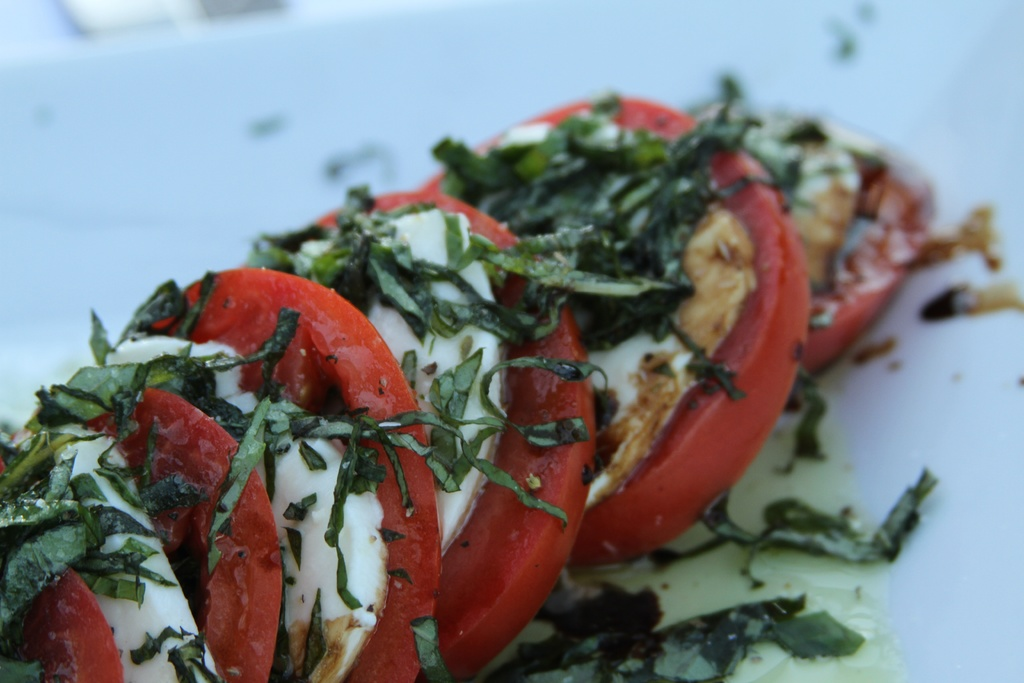Tomato: (247, 189, 595, 681), (465, 99, 807, 557), (132, 267, 446, 682), (85, 385, 282, 682), (24, 561, 125, 682)
